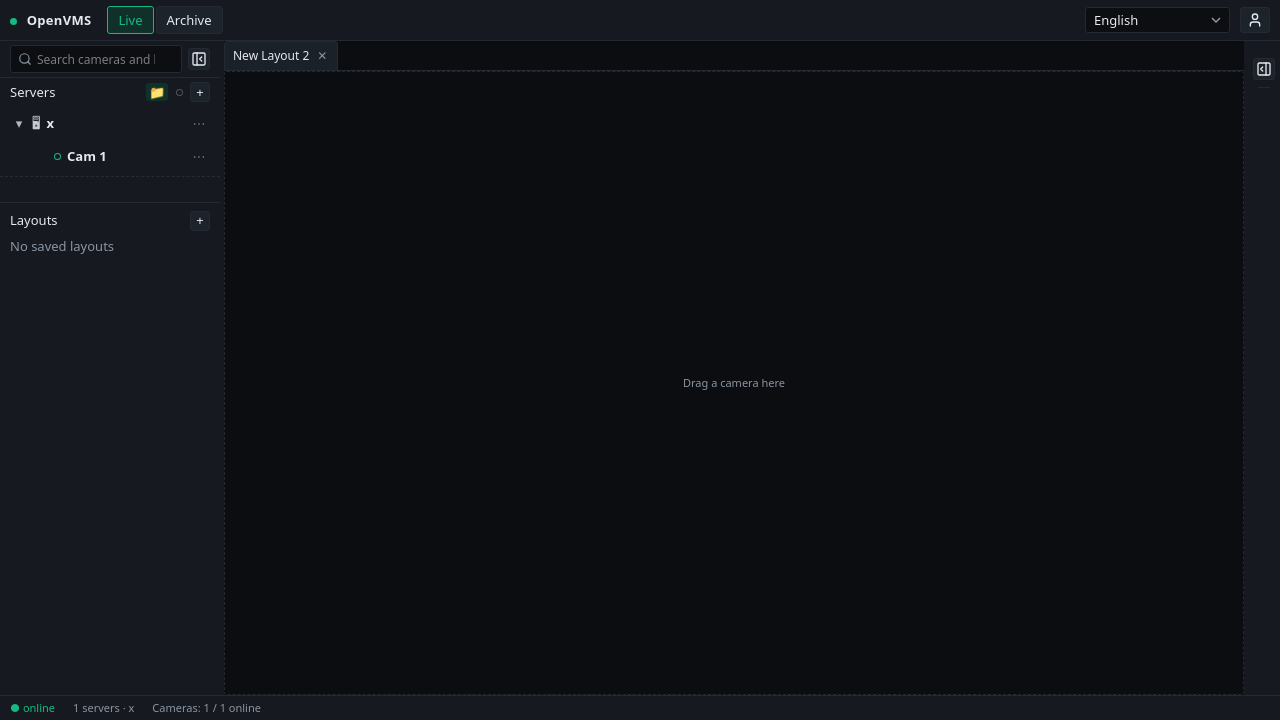
Test: tree actions through PromptDialog (spec promptdialog) › Cancel in the Delete dialog deletes nothing
Right-click the text "Cam 1" at (87,156), box [67, 147, 107, 165]
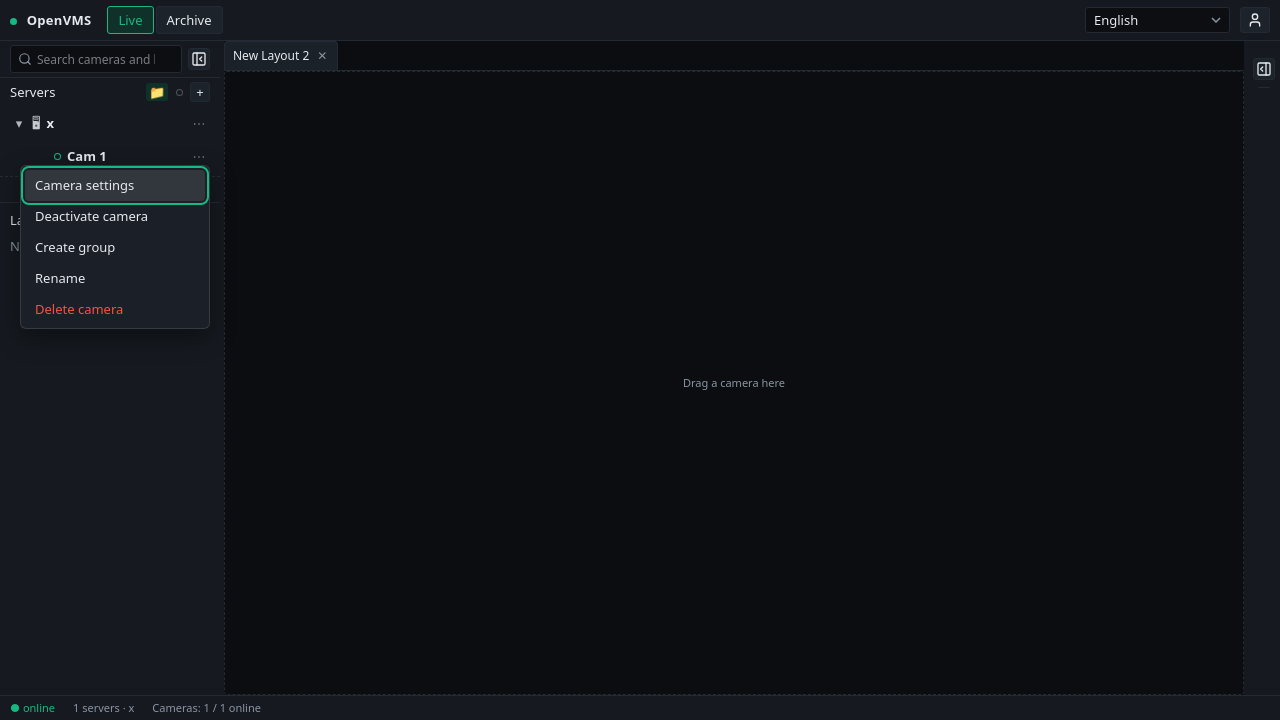
Click the menu item "Delete camera" at (115,309), box [25, 294, 205, 324]
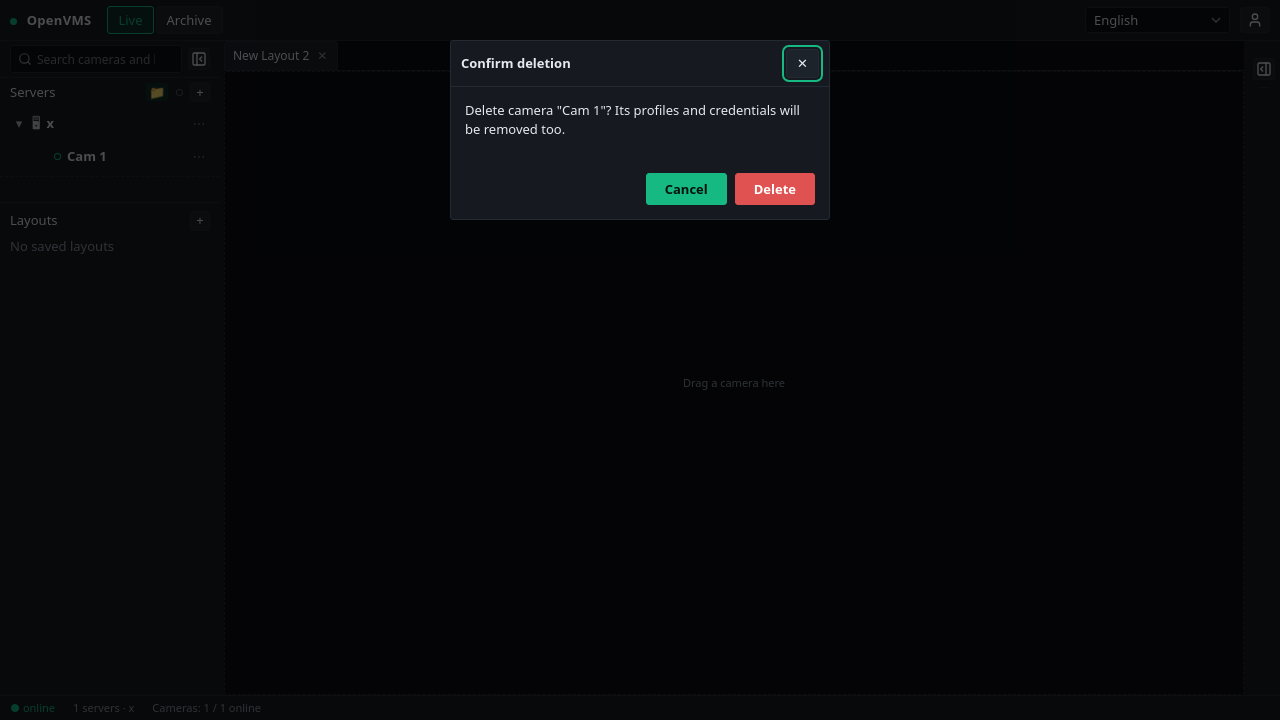
Check: the text "Delete camera \"Cam 1\"? Its profiles and credentials will be removed too." is shown, box [465, 101, 815, 138]
Click the button "Cancel" at (686,189), box [646, 172, 727, 205]
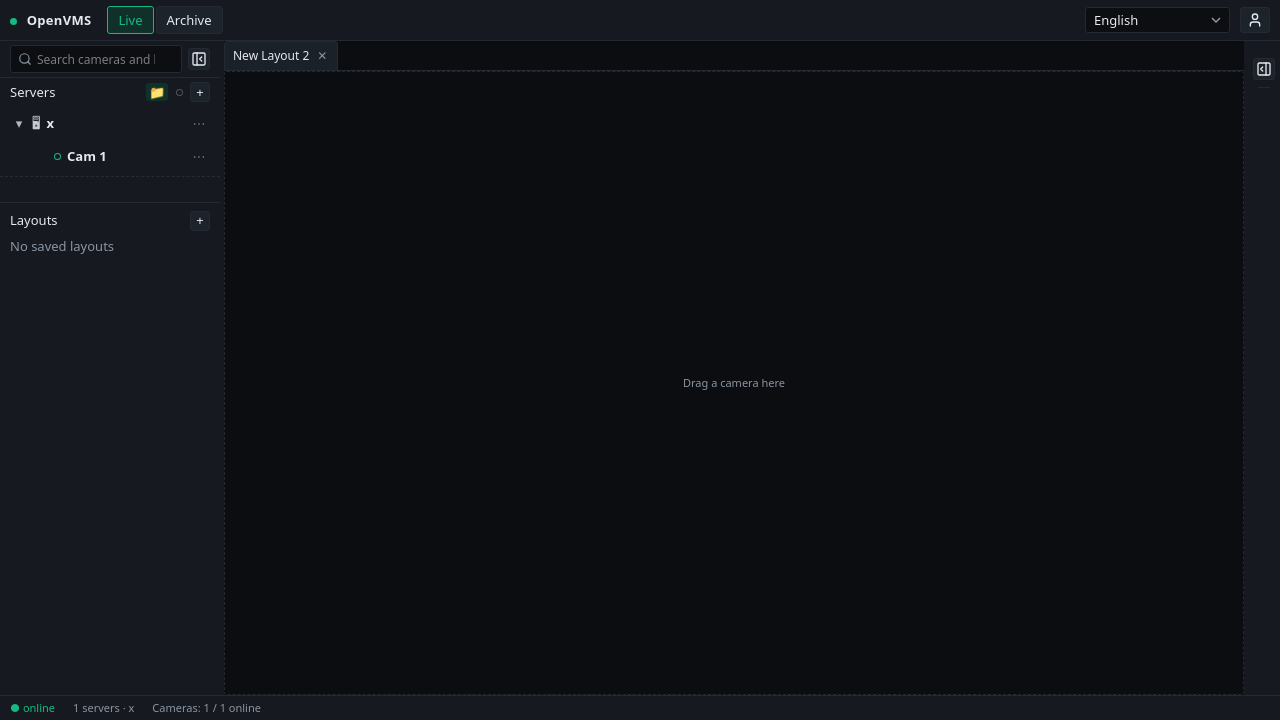
Check: the dialog is gone
